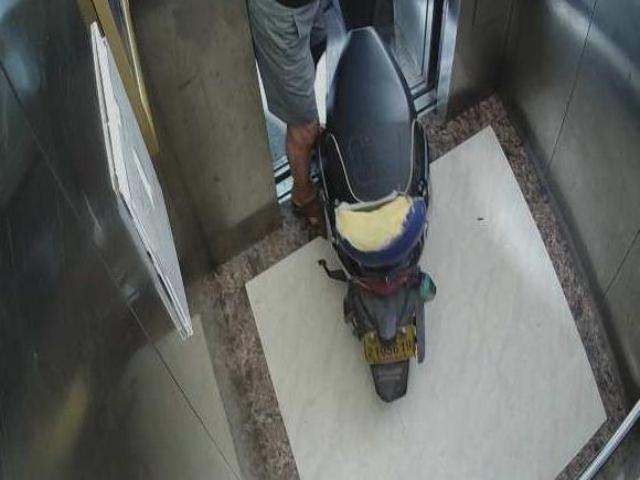emotor: (300, 7, 447, 412)
